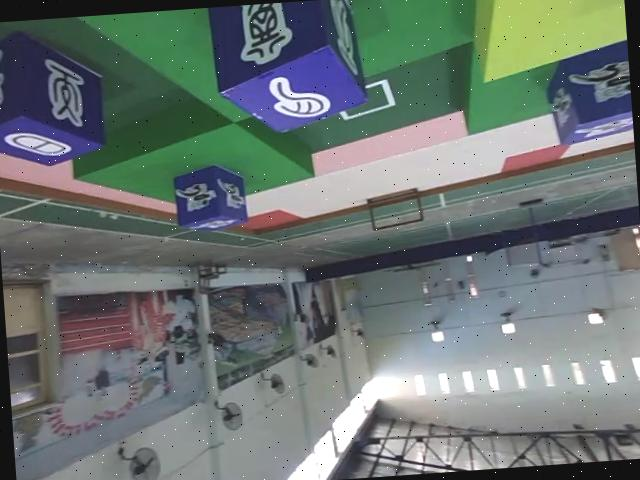R1 Blue: (543, 33, 634, 147), (172, 162, 248, 233)
R2 Fake Blue: (208, 0, 369, 137), (0, 23, 108, 170)
